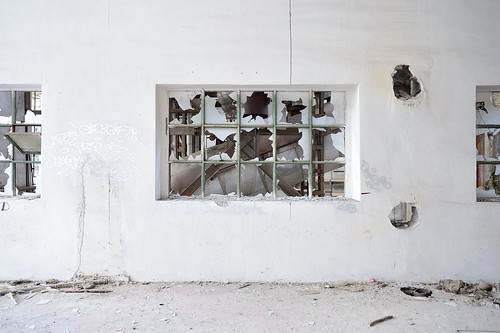window: (155, 84, 356, 203), (1, 84, 39, 200), (466, 87, 500, 202)
